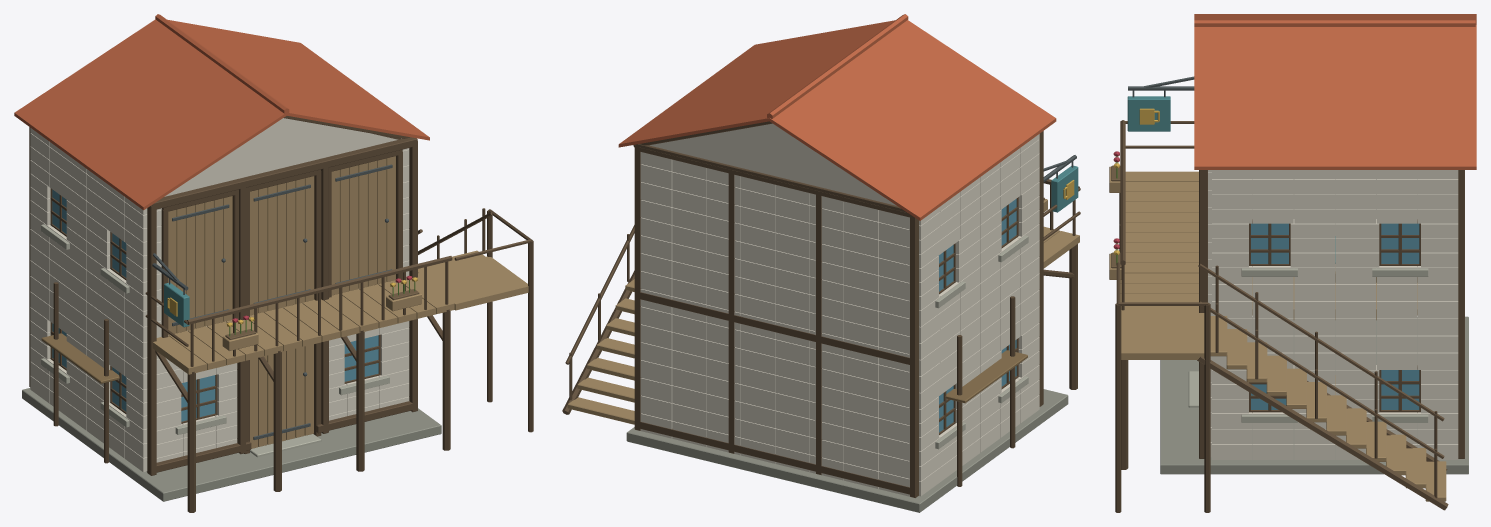
Rendered from inn.glb.
The picture shows the model from 3 angles, left to right: view 1: azimuth 30°, elevation 25°; view 2: azimuth 150°, elevation 25°; view 3: azimuth 270°, elevation 25°; orthographic projection. The views are drawn at different scales.
Parts seen in each view (by area): view 1: Gallery_mesh, TimberFrame_mesh, SideWallCourse.002_mesh, Foundation_mesh, GuestDoor.001_mesh, GuestDoor.002_mesh, RoofCourse.001_mesh, GuestDoor_mesh, ExternalStair_mesh, RoofCourse.004_mesh, RoofCourse.003_mesh, RoofCourse.002_mesh (+23 smaller); view 2: RearWallCourse_mesh, TimberFrame_mesh, SideWallCourse.002_mesh, RoofCourse.001_mesh, RoofCourse.003_mesh, RoofCourse.002_mesh, RoofCourse.004_mesh, RoofCourse.005_mesh, Foundation_mesh, Gables_mesh, SideWallCourse.004_mesh, RoofCourse_mesh (+9 smaller); view 3: ExternalStair_mesh, SideWallCourse.007_mesh, SideWallCourse.009_mesh, Gallery_mesh, Foundation_mesh, RoofCourse.001_mesh, RoofCourse.003_mesh, SideWindows.001_mesh, RoofCourse.005_mesh, RoofCourse.004_mesh, RoofCourse.002_mesh, SideWallCourse.008_mesh (+9 smaller).
Part boxes in pixels (<box>): Gallery_mesh: <box>145,256,454,512</box>; TimberFrame_mesh: <box>29,127,417,475</box>; SideWallCourse.002_mesh: <box>30,213,147,389</box>; Foundation_mesh: <box>22,388,441,501</box>; GuestDoor.001_mesh: <box>250,176,314,315</box>; GuestDoor.002_mesh: <box>331,156,395,295</box>; RoofCourse.001_mesh: <box>107,22,336,147</box>; GuestDoor_mesh: <box>168,196,232,335</box>; ExternalStair_mesh: <box>418,208,533,432</box>; RoofCourse.004_mesh: <box>36,35,407,195</box>; RoofCourse.003_mesh: <box>60,31,384,179</box>; RoofCourse.002_mesh: <box>84,27,360,164</box>; RearWallCourse_mesh: <box>640,152,909,496</box>; TimberFrame_mesh: <box>634,131,1043,497</box>; SideWallCourse.002_mesh: <box>919,224,1039,409</box>; RoofCourse.001_mesh: <box>716,22,957,155</box>; RoofCourse.003_mesh: <box>666,32,1008,189</box>; RoofCourse.002_mesh: <box>691,28,982,172</box>; RoofCourse.004_mesh: <box>641,36,1033,205</box>; RoofCourse.005_mesh: <box>618,41,1056,220</box>; Foundation_mesh: <box>626,389,1068,512</box>; Gables_mesh: <box>649,123,896,205</box>; SideWallCourse.004_mesh: <box>919,134,1039,268</box>; RoofCourse_mesh: <box>741,20,928,139</box>; ExternalStair_mesh: <box>1115,262,1448,512</box>; SideWallCourse.007_mesh: <box>1212,266,1458,369</box>; SideWallCourse.009_mesh: <box>1212,170,1458,223</box>; Gallery_mesh: <box>1119,120,1203,469</box>; Foundation_mesh: <box>1160,316,1468,474</box>; RoofCourse.001_mesh: <box>1194,21,1476,74</box>; RoofCourse.003_mesh: <box>1194,17,1476,121</box>; SideWindows.001_mesh: <box>1241,219,1428,422</box>; RoofCourse.005_mesh: <box>1194,14,1476,169</box>; RoofCourse.004_mesh: <box>1194,15,1476,145</box>; RoofCourse.002_mesh: <box>1194,19,1476,98</box>; SideWallCourse.008_mesh: <box>1212,219,1458,267</box>.
Bounding box in the file's own units: 6.66 × 6.12 × 5.35.
